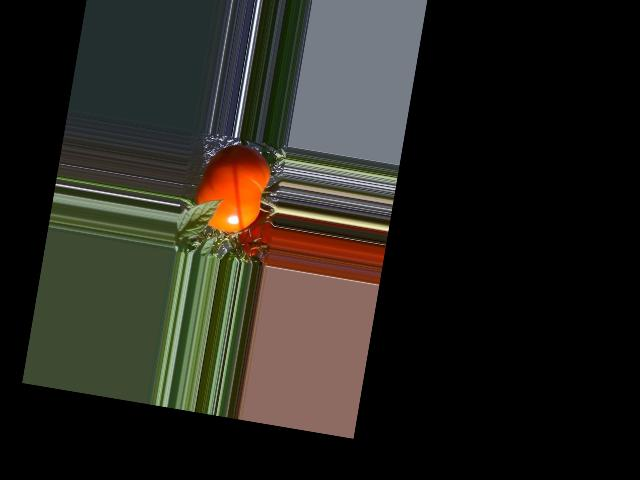tomato: (191, 139, 274, 237)
